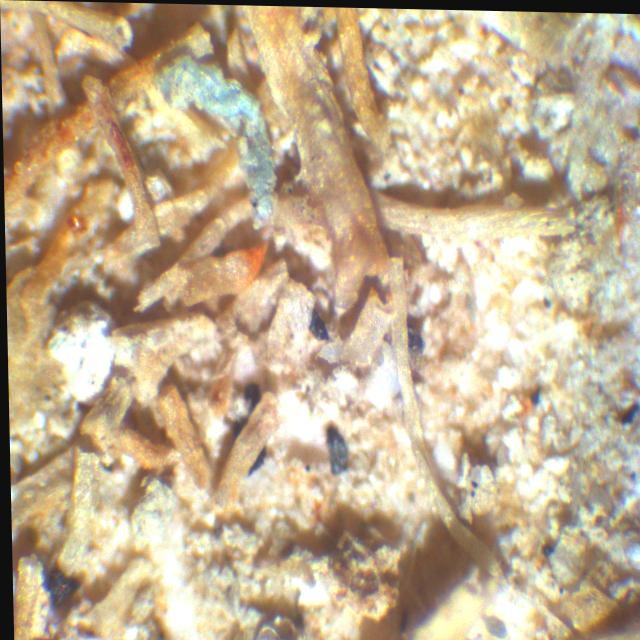microplastic: (151, 33, 302, 242)
